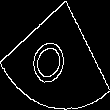O_NE: (31, 22, 79, 88)
